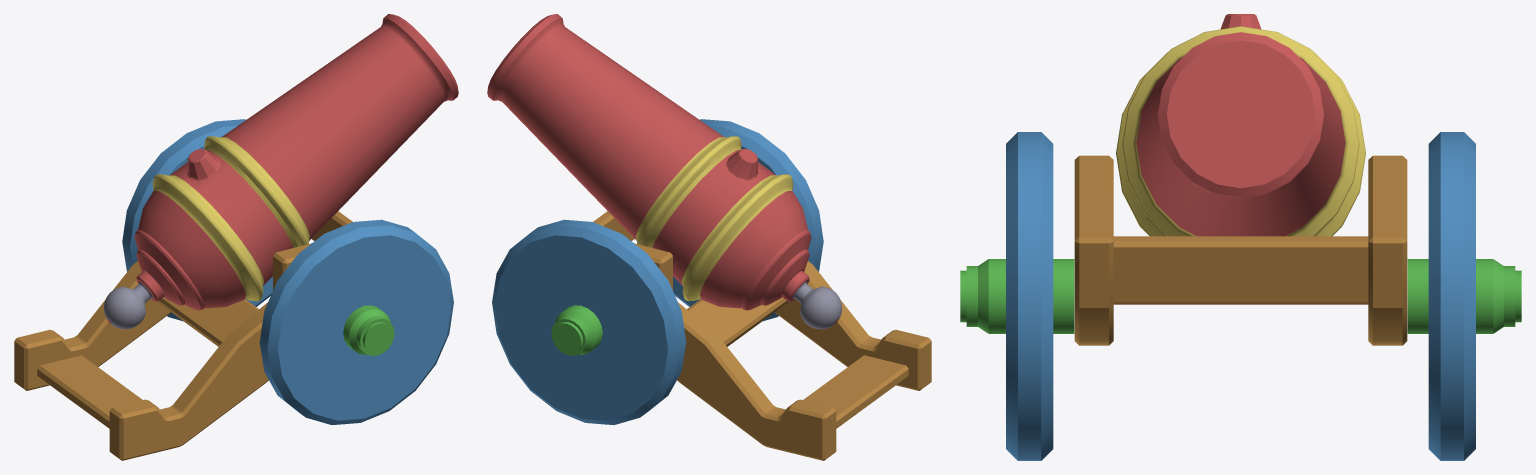
File: Cannon_lowLevel.fbx
3 renders of one model, left to right at view 1: azimuth 30°, elevation 25°; view 2: azimuth 150°, elevation 25°; view 3: azimuth 270°, elevation 25°, orthographic. The views are drawn at different scales.
Visible parts, largest first — view 1: Cannon_LowVersion_inGame; view 2: Cannon_LowVersion_inGame; view 3: Cannon_LowVersion_inGame.
Part boxes in pixels (<box>): Cannon_LowVersion_inGame: <box>14,14,458,460</box>; Cannon_LowVersion_inGame: <box>487,14,931,460</box>; Cannon_LowVersion_inGame: <box>960,14,1521,460</box>.
Size of the model in its own units: 69.12 by 56.31 by 57.45.
